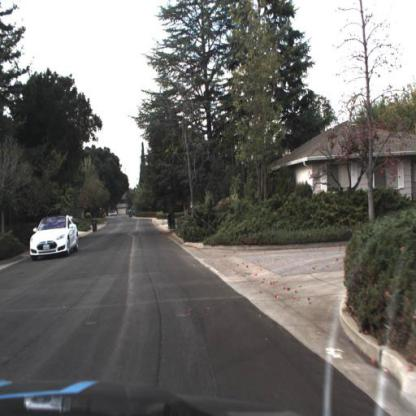car: (29, 211, 79, 259)
